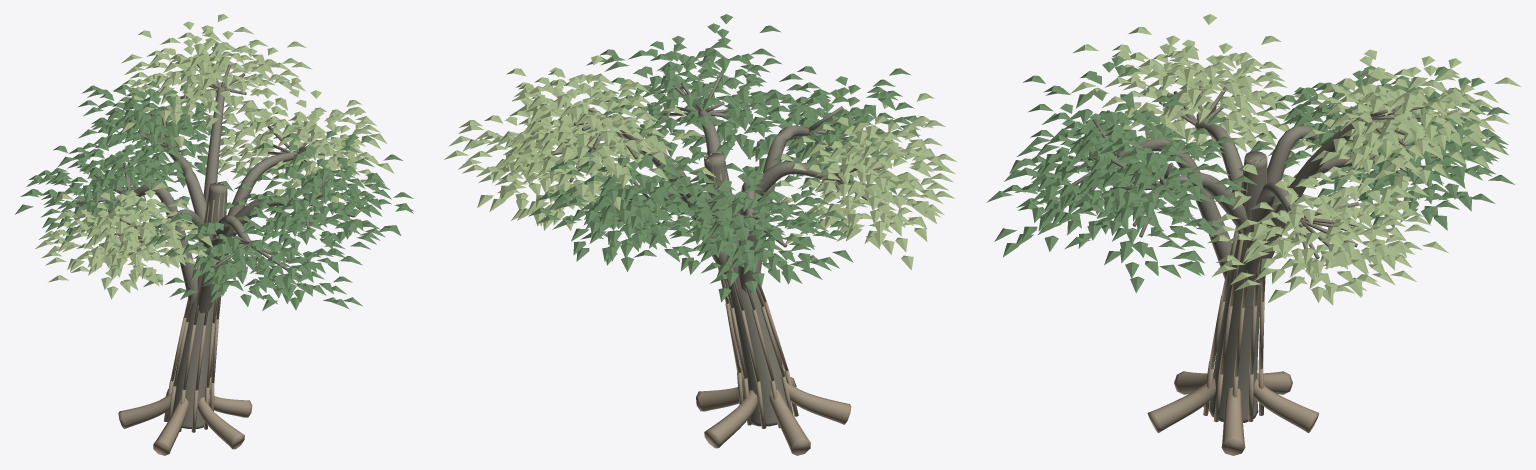
File: dongpo-west-tall-shrub.glb
3 renders of one model, left to right at view 1: azimuth 30°, elevation 25°; view 2: azimuth 150°, elevation 25°; view 3: azimuth 270°, elevation 25°, orthographic. The views are drawn at different scales.
Visible parts, largest first — view 1: dongpo-west-tall-shrub; view 2: dongpo-west-tall-shrub; view 3: dongpo-west-tall-shrub.
Boxes of the visible parts, bbox=[...] form: dongpo-west-tall-shrub: bbox=[15, 14, 413, 455]; dongpo-west-tall-shrub: bbox=[444, 14, 956, 455]; dongpo-west-tall-shrub: bbox=[986, 14, 1520, 455].
Size of the model in its own units: 4.89 by 4 by 4.75.
